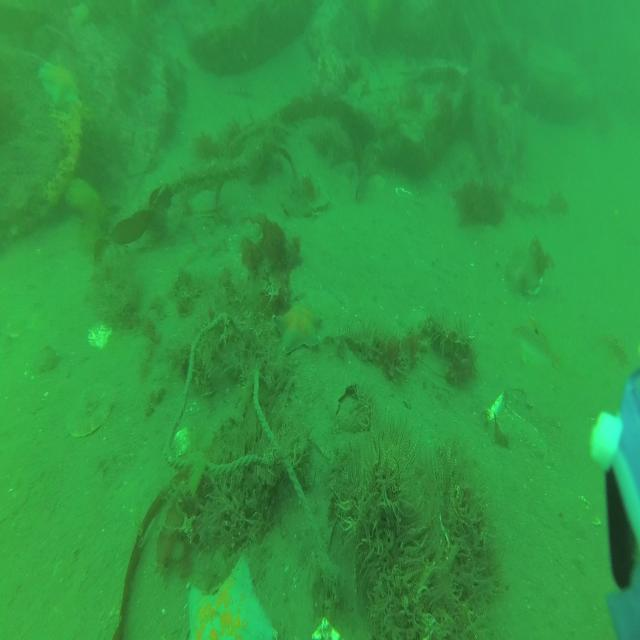starfish: (186, 553, 278, 640), (274, 303, 320, 353), (38, 62, 80, 108)
